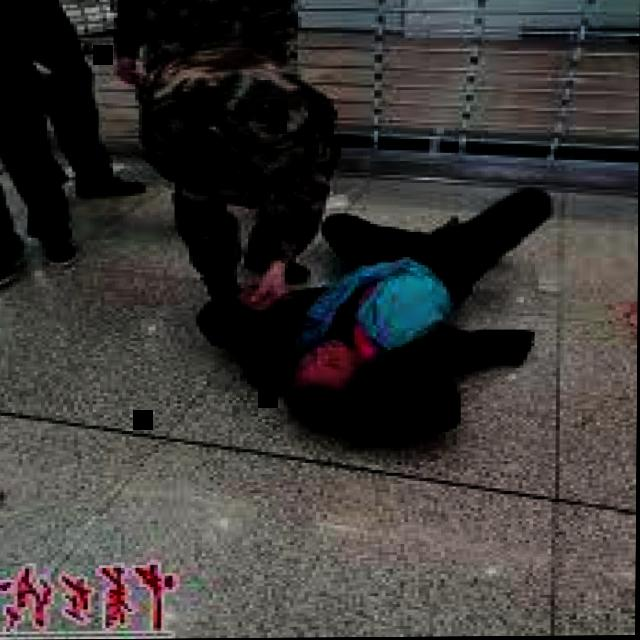Fall-Detected: (192, 169, 569, 450)
